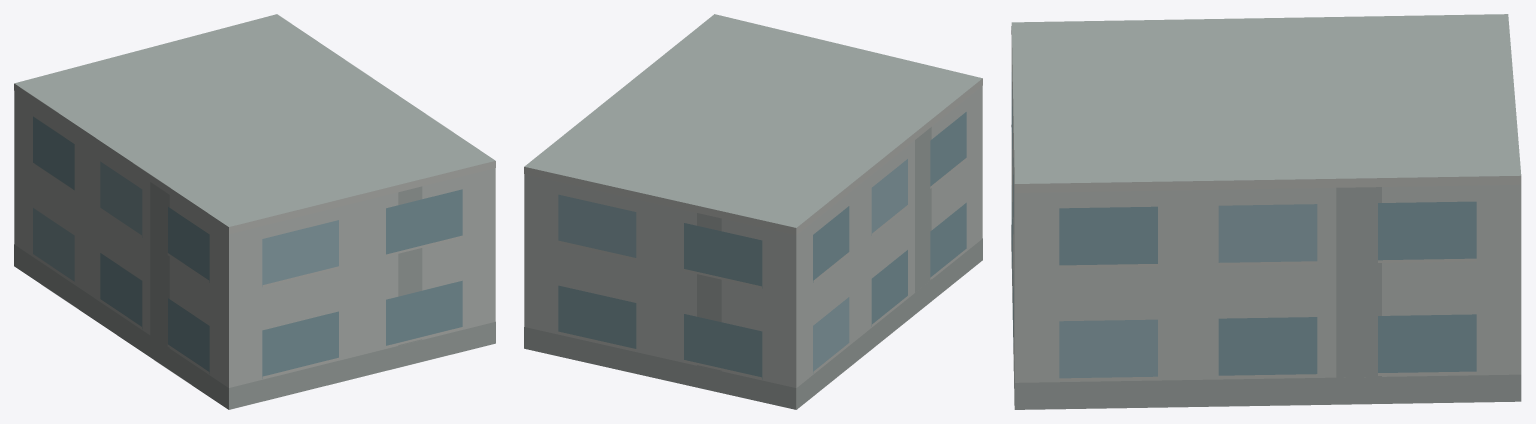
The model's file is survey-upis-32603364.glb.
3 renders of one model, left to right at view 1: azimuth 30°, elevation 25°; view 2: azimuth 150°, elevation 25°; view 3: azimuth 270°, elevation 25°, orthographic. The views are drawn at different scales.
Parts seen in each view (by area): view 1: survey-upis-32603364.tmp; view 2: survey-upis-32603364.tmp; view 3: survey-upis-32603364.tmp.
Part boxes in pixels (bbox=[...]): survey-upis-32603364.tmp: bbox=[14, 14, 495, 409]; survey-upis-32603364.tmp: bbox=[524, 14, 982, 409]; survey-upis-32603364.tmp: bbox=[1011, 14, 1521, 409].
Bounding box in the file's own units: 9.86 × 6.1 × 12.49.
